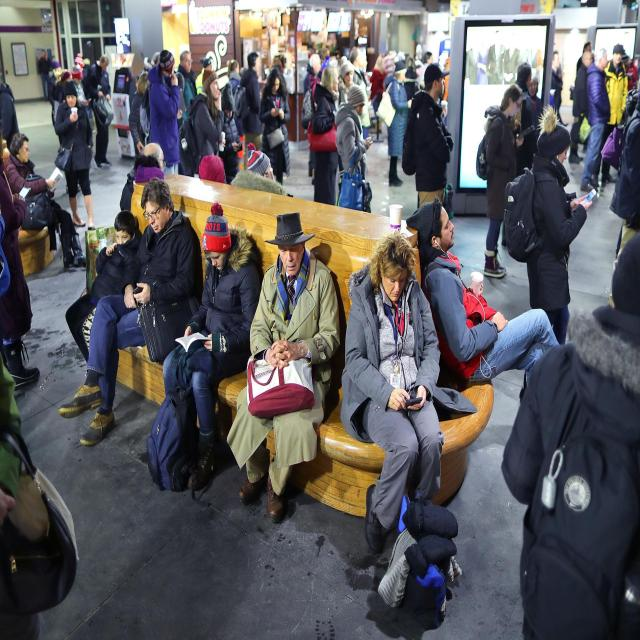body: (498, 230, 640, 640), (56, 174, 205, 448), (225, 210, 343, 527), (0, 210, 83, 640), (126, 42, 447, 151), (340, 232, 445, 556), (405, 195, 562, 388), (161, 202, 263, 493), (520, 104, 593, 346), (2, 134, 91, 274), (64, 210, 142, 368), (0, 124, 42, 391), (482, 84, 525, 279), (401, 62, 455, 207), (52, 84, 99, 230), (578, 48, 640, 143), (334, 85, 374, 215), (146, 49, 183, 176), (580, 46, 611, 193), (309, 64, 341, 206), (615, 93, 640, 261), (186, 67, 227, 166), (600, 44, 629, 182), (383, 59, 413, 188), (259, 66, 291, 186), (84, 55, 113, 172), (120, 141, 167, 211), (230, 149, 294, 198), (567, 50, 593, 163), (514, 61, 538, 178), (530, 51, 563, 124), (0, 37, 22, 136), (45, 51, 86, 86), (197, 153, 228, 185), (36, 48, 52, 103)
